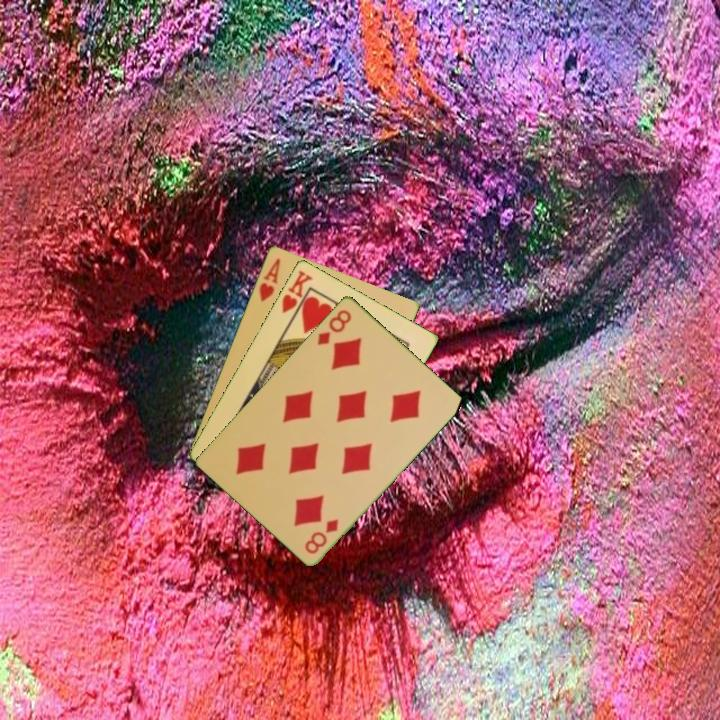8d: (313, 306, 354, 348), (301, 515, 341, 557)
Ah: (255, 254, 283, 304)
Kh: (278, 266, 316, 323)
